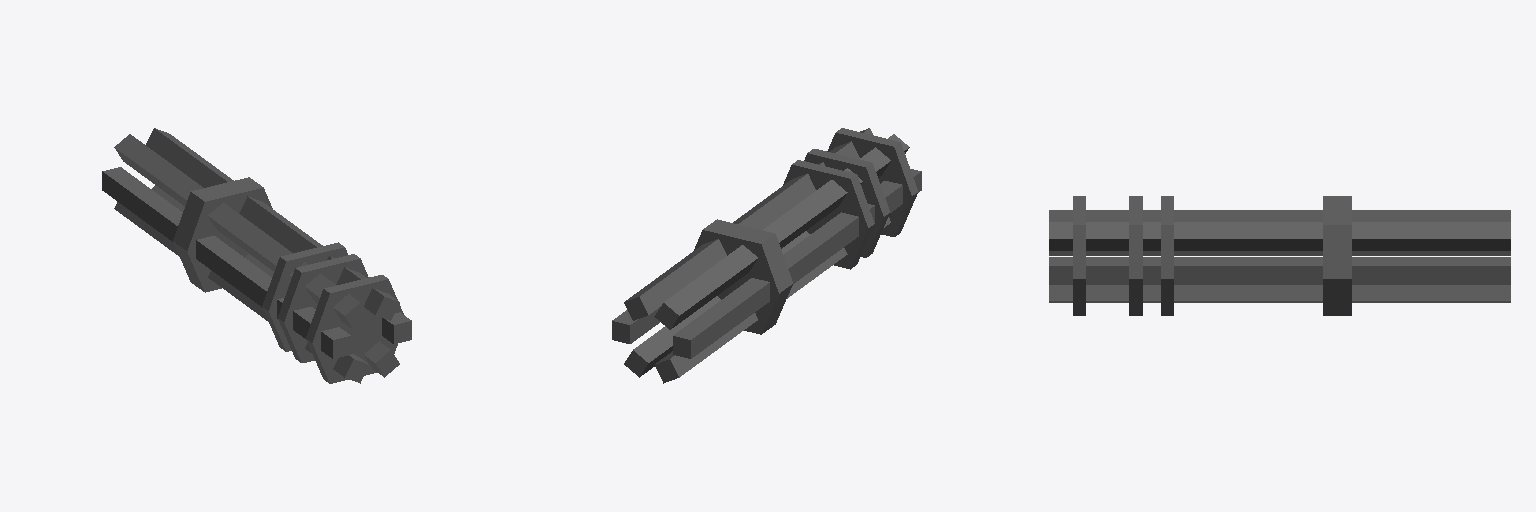
3 views of the same model, side by side, from view 1: azimuth 30°, elevation 25°; view 2: azimuth 150°, elevation 25°; view 3: azimuth 270°, elevation 25° (orthographic).
Parts seen in each view (by area): view 1: Cube.001; view 2: Cube.001; view 3: Cube.001.
Part boxes in pixels (left/top/right/bottom): Cube.001: left=102, top=128, right=411, bottom=383; Cube.001: left=612, top=128, right=921, bottom=383; Cube.001: left=1049, top=196, right=1510, bottom=315.
Bounding box in the file's own units: 1.9 × 1.75 × 8.05.
1 materials, 1 textured.